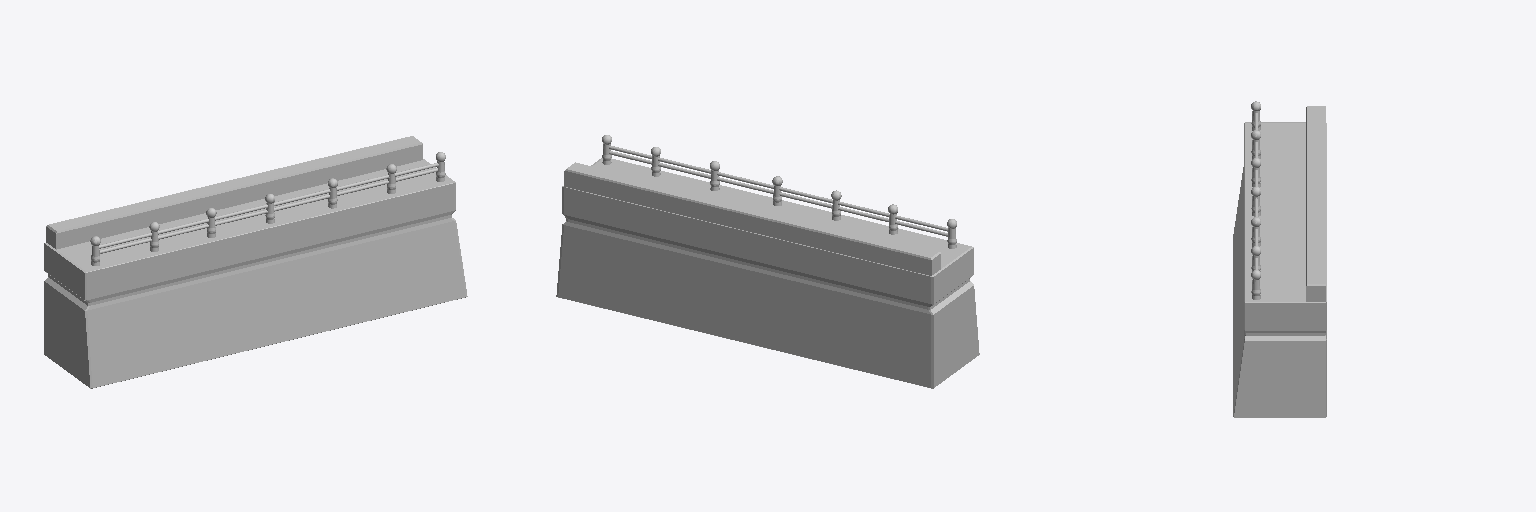
The model's file is main2.obj.
3 renders of one model, left to right at view 1: azimuth 30°, elevation 25°; view 2: azimuth 150°, elevation 25°; view 3: azimuth 270°, elevation 25°, orthographic.
Visible parts, largest first — view 1: Cube, Cylinder.007_Cylinder.008, Cylinder.008_Cylinder.009; view 2: Cube, Cylinder.007_Cylinder.008, Cylinder.008_Cylinder.009; view 3: Cube.
Boxes of the visible parts, <box> form: Cube: <box>44,136,467,388</box>; Cylinder.007_Cylinder.008: <box>99,163,438,248</box>; Cylinder.008_Cylinder.009: <box>100,168,437,253</box>; Cube: <box>556,158,979,388</box>; Cylinder.007_Cylinder.008: <box>609,146,947,231</box>; Cylinder.008_Cylinder.009: <box>609,151,947,236</box>; Cube: <box>1233,106,1326,417</box>.
Bounding box in the file's own units: 10.6 × 3.77 × 2.27.